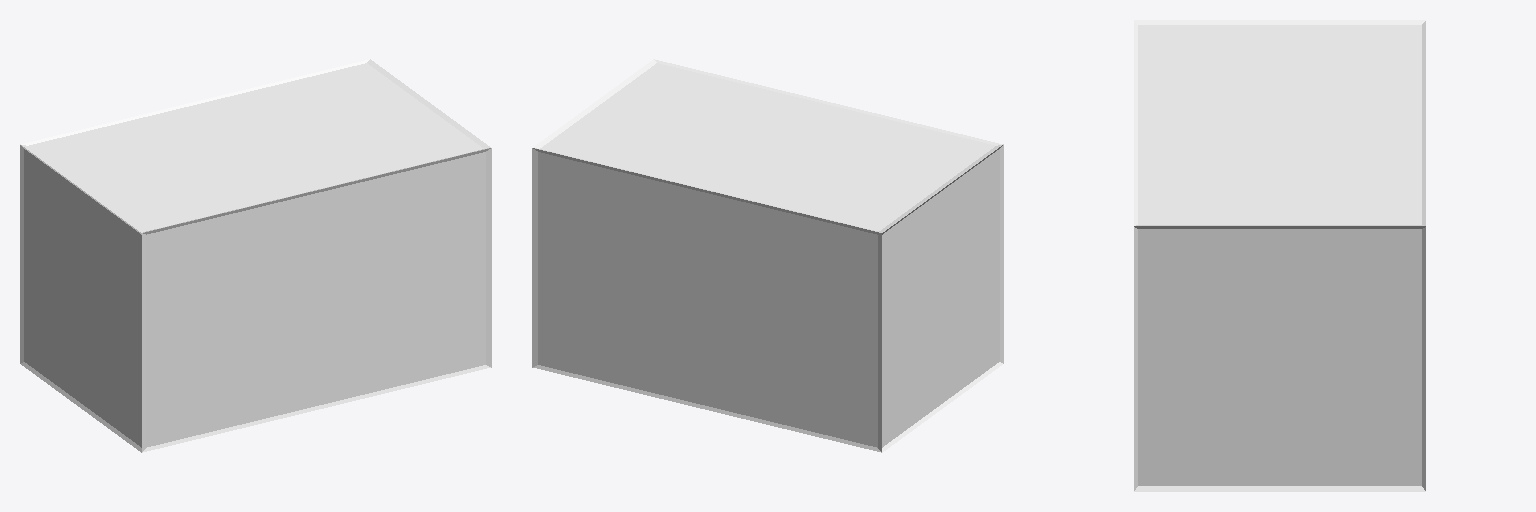
robot.urdf — Cube_Wired:
<?xml version="1.0" ?>
<robot name="Cube_Wired">
 
  <link name="baseLink">
    <contact>
    	<friction_anchor/>
    	   <lateral_friction value="1.0"/>
    </contact>
    <inertial>
      <origin rpy="0 0 0" xyz="0 0 0"/>
       <mass value=".1"/>
       <inertia ixx="1" ixy="0" ixz="0" iyy="1" iyz="0" izz="1"/>
    </inertial>
    <visual>
      <origin rpy="0 0 0" xyz="0 0 0"/>
      <geometry>
				<mesh filename="Cube_Wired.obj" scale=".1 .1 .1"/>
      </geometry>
       <material name="white">
        <color rgba="1 1 1 1"/>
      </material>
    </visual>
    <collision>
      <origin rpy="0 0 0" xyz="0 0 0"/>
      <geometry>
	 	    <mesh filename="Cube_Wired.obj" scale=".1 .1 .1"/>
      </geometry>
    </collision>
  </link>
</robot>

--- Render facts (derived) ---
The picture shows the robot from 3 angles, left to right: view 1: azimuth 30°, elevation 25°; view 2: azimuth 150°, elevation 25°; view 3: azimuth 270°, elevation 25°; orthographic projection.
Model Cube_Wired with 1 links and 0 joints (none), rooted at baseLink, posed every joint at zero.
Visible links, largest first — view 1: baseLink; view 2: baseLink; view 3: baseLink.
Link boxes in pixels (x1,y1,x2,y2): baseLink: (20,59,491,452); baseLink: (532,59,1003,452); baseLink: (1134,20,1425,491).
Size in the robot's own frame: 0.2023 by 0.1214 by 0.1214 metres.
Meshes: 1 distinct files referenced, 1 mesh visuals loaded (1 OBJ).